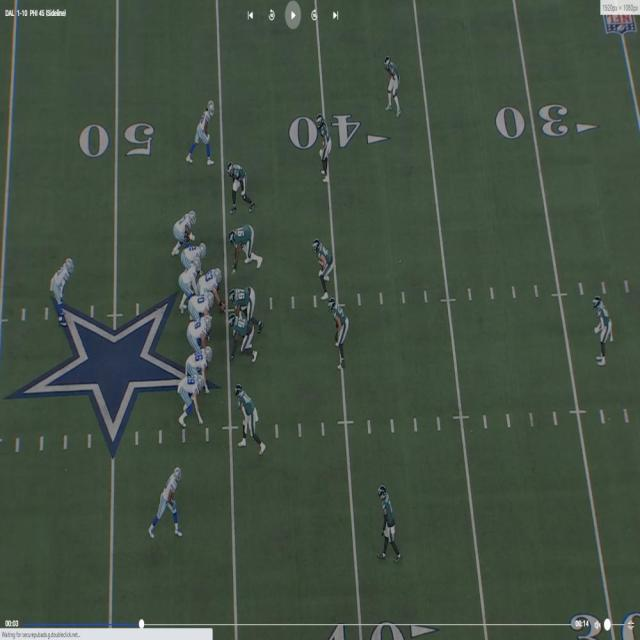center: (203, 266, 224, 312)
db: (595, 293, 613, 367), (379, 486, 396, 562), (317, 112, 331, 178), (388, 54, 402, 114)
lb: (330, 298, 350, 364), (235, 384, 254, 444), (228, 165, 250, 213), (313, 237, 331, 294)
qb: (180, 262, 196, 308)
skill: (156, 462, 182, 534), (190, 97, 217, 161), (51, 258, 71, 321), (181, 374, 205, 426), (186, 347, 216, 374)
